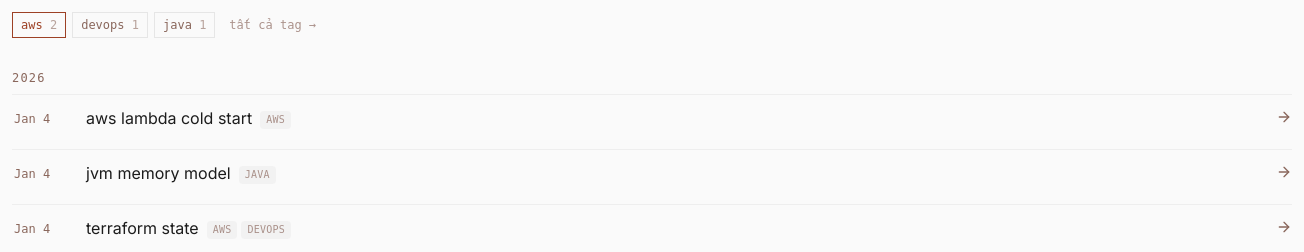
Test case: BlogIndex tag filter › clears the filter when the active chip is clicked again
Click the button "aws 2".
click(39, 25)  # box top-left (12, 12), bottom-right (66, 38)
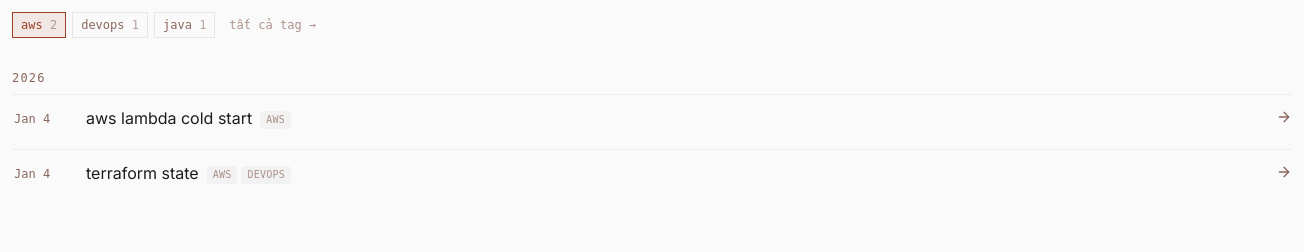
Click the button "aws 2".
click(39, 25)  # box top-left (12, 12), bottom-right (66, 38)
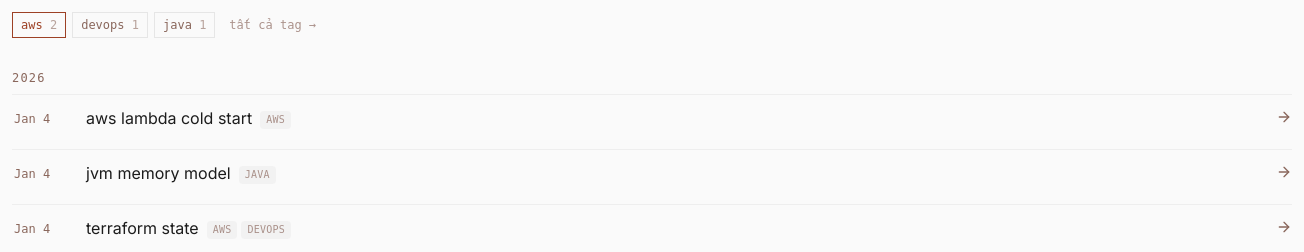
Expected: the text "jvm memory model" is shown, top-left (86, 163), bottom-right (231, 183)
